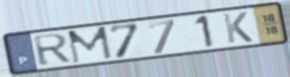1: (194, 13, 216, 49)
7: (109, 21, 140, 60), (146, 18, 176, 55)
K: (220, 11, 255, 45)
M: (65, 25, 114, 65)
R: (31, 32, 74, 68)
